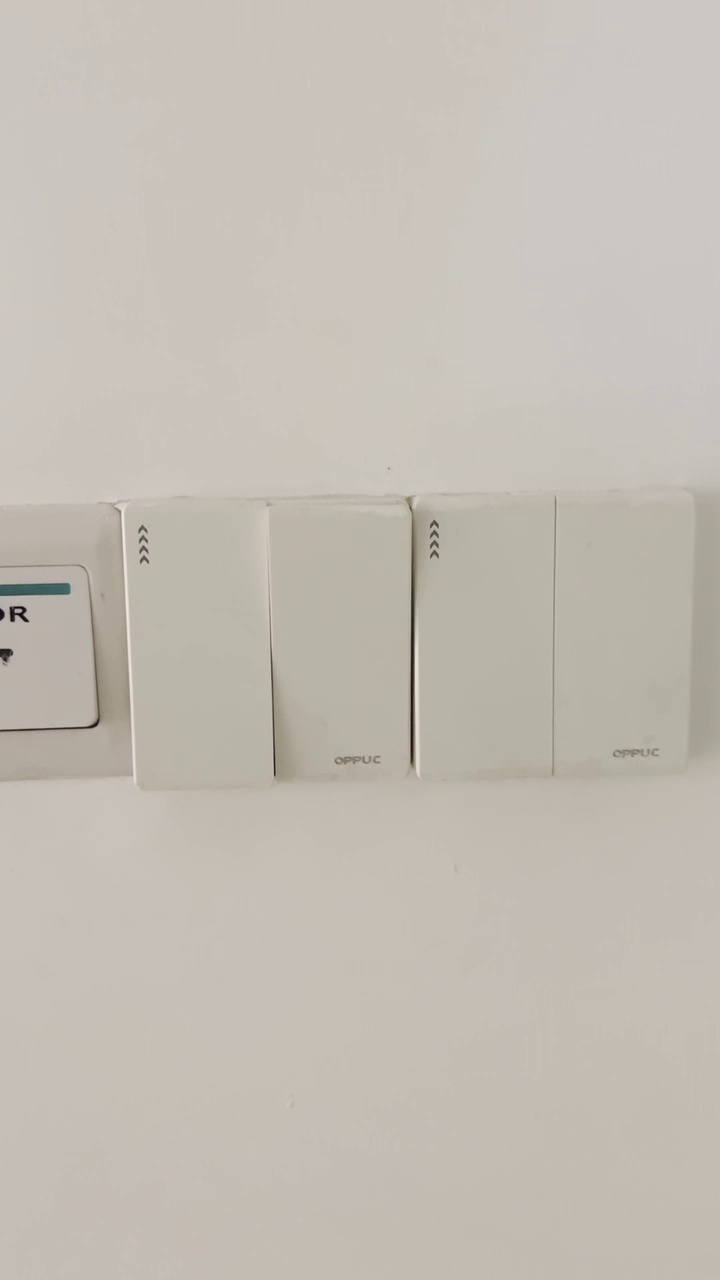button1: (122, 502, 272, 785), (273, 509, 409, 776), (423, 503, 548, 775), (562, 501, 682, 771)
